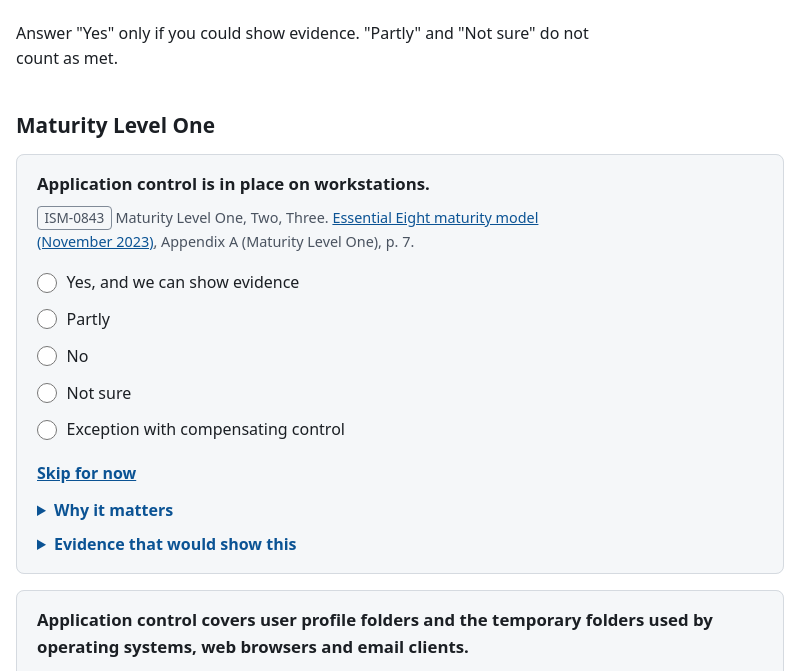
skipping and partial results (D30, D32) › marks other questions "not needed" once a requirement fails
(page scrolled)
Click the radio button labelled "No" at (47, 356), box [37,346,57,366]
(page scrolled)
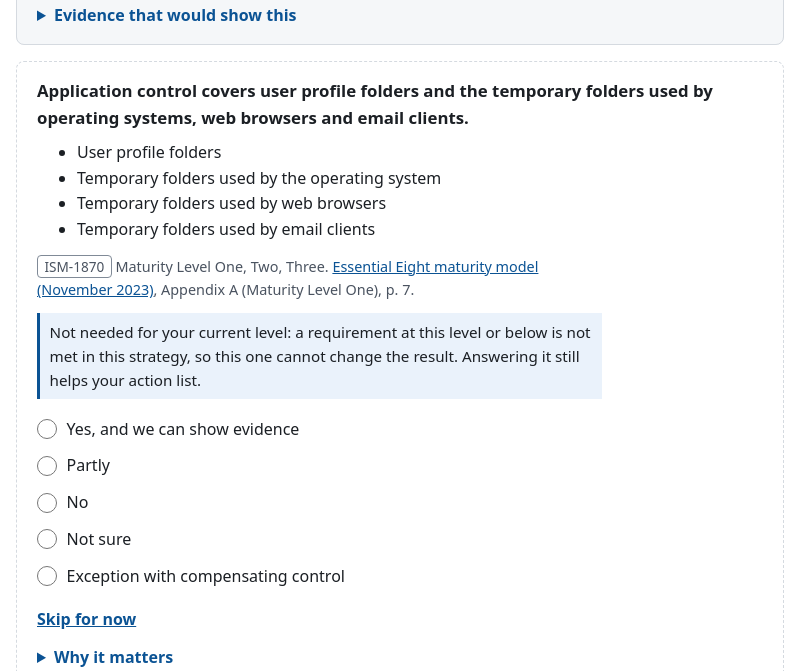
Expected: the text "Not needed for your current level" is shown, [50,322,591,390]
